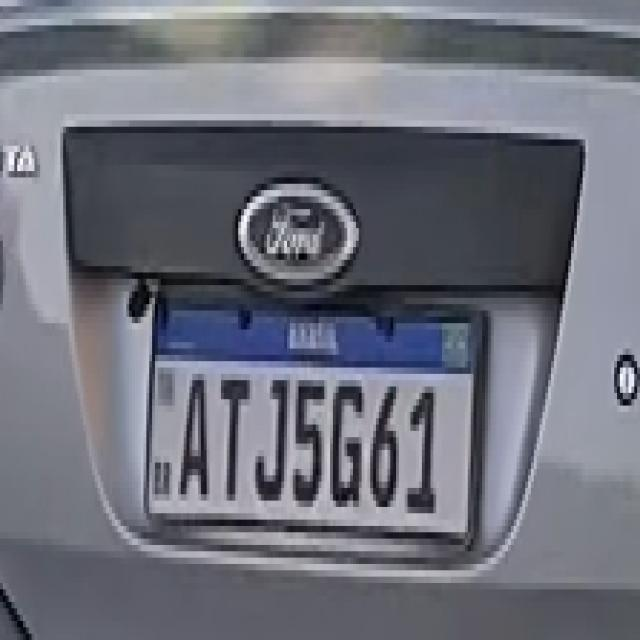Placa_mercosul_carro: (143, 291, 489, 539)
